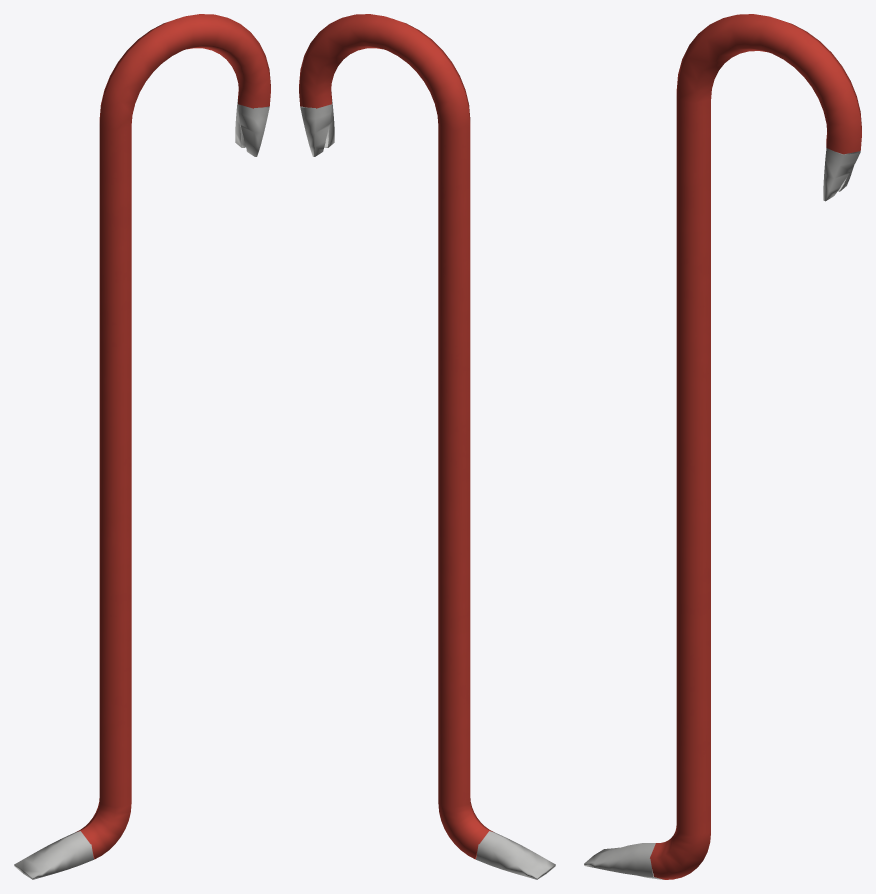
File: Item_Crowbar.fbx
3 views of the same model, side by side, from view 1: azimuth 30°, elevation 25°; view 2: azimuth 150°, elevation 25°; view 3: azimuth 330°, elevation 25° (orthographic). The views are drawn at different scales.
Visible parts, largest first — view 1: Item_Crowbar; view 2: Item_Crowbar; view 3: Item_Crowbar.
Boxes of the visible parts, bbox=[...] form: Item_Crowbar: bbox=[14, 14, 270, 879]; Item_Crowbar: bbox=[299, 14, 555, 879]; Item_Crowbar: bbox=[584, 14, 861, 879].
Size of the model in its own units: 0.1991 by 0.6323 by 0.0275.
